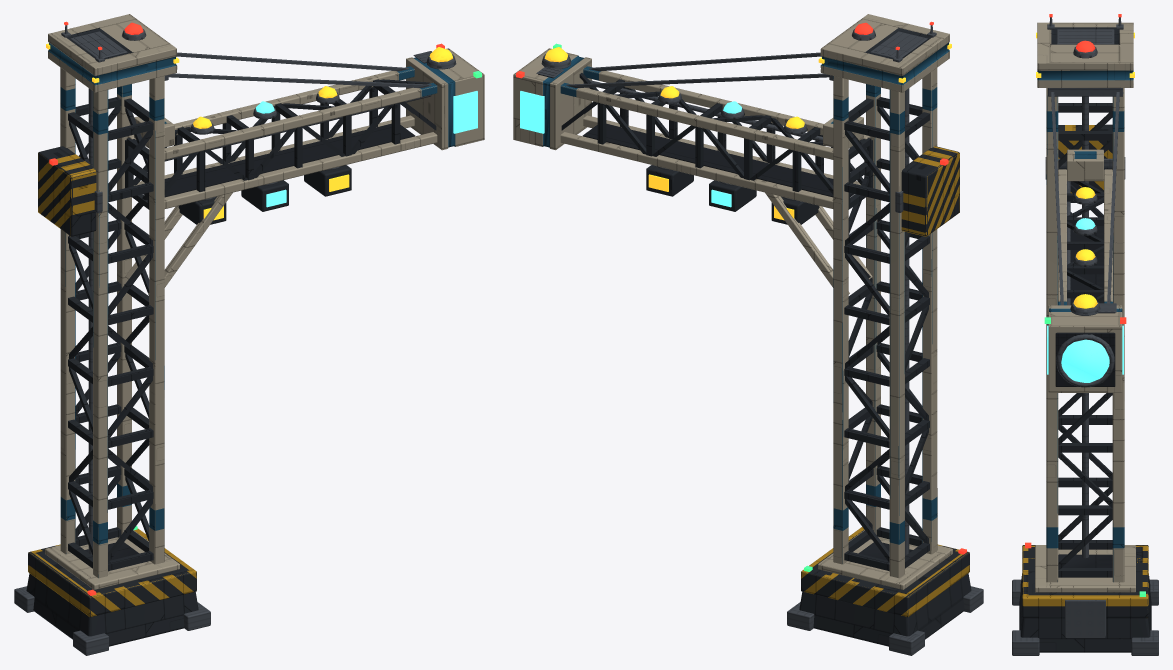
Rendered from place_lane_beacon.glb.
3 renders of one model, left to right at view 1: azimuth 30°, elevation 25°; view 2: azimuth 150°, elevation 25°; view 3: azimuth 270°, elevation 25°, orthographic.
Visible parts, largest first — view 1: LOD0_Hull, LOD0_Armor, LOD1_Armor, LOD0_Mechanical, LOD0_Warning, LOD0_Livery, LOD0_MechanicalDark, LOD1_Livery, LOD2_Hull, LOD1_Mechanical, LOD0_Lights_Cyan, LOD0_Beacon_Amber (+1 smaller); view 2: LOD0_Hull, LOD0_Armor, LOD1_Armor, LOD0_Mechanical, LOD0_Warning, LOD0_Livery, LOD1_Livery, LOD0_MechanicalDark, LOD1_MechanicalDark, LOD0_Lights_Cyan, LOD0_Beacon_Amber, LOD1_Lights_Cyan (+2 smaller); view 3: LOD0_Hull, LOD0_Armor, LOD0_Mechanical, LOD1_Armor, LOD0_Warning, LOD0_MechanicalDark, LOD2_Lights_Cyan, LOD0_Livery, LOD2_Mechanical, LOD1_Livery, LOD1_Mechanical, LOD2_Hull (+7 smaller).
Part boxes in pixels (x1,y1,x2,y2): LOD0_Hull: (45,14,484,589); LOD0_Armor: (26,27,436,646); LOD1_Armor: (26,28,428,636); LOD0_Mechanical: (14,25,456,655); LOD0_Warning: (28,154,196,616); LOD0_Livery: (48,43,455,544); LOD0_MechanicalDark: (143,57,426,197); LOD1_Livery: (48,42,454,512); LOD2_Hull: (45,54,436,584); LOD1_Mechanical: (27,29,454,655); LOD0_Lights_Cyan: (256,91,477,207); LOD0_Beacon_Amber: (46,43,452,220); LOD0_Hull: (513,14,952,589); LOD0_Armor: (561,27,971,646); LOD1_Armor: (564,28,971,636); LOD0_Mechanical: (536,25,983,655); LOD0_Warning: (801,146,969,616); LOD0_Livery: (543,43,949,544); LOD1_Livery: (543,43,949,541); LOD0_MechanicalDark: (538,72,854,197); LOD1_MechanicalDark: (583,124,874,547); LOD0_Lights_Cyan: (520,91,741,207); LOD0_Beacon_Amber: (545,43,951,220); LOD1_Lights_Cyan: (520,91,740,206); LOD0_Hull: (1035,22,1135,592); LOD0_Armor: (1019,29,1151,652); LOD0_Mechanical: (1012,17,1158,655); LOD1_Armor: (1021,27,1149,637); LOD0_Warning: (1022,125,1148,606); LOD0_MechanicalDark: (1055,226,1115,386); LOD2_Lights_Cyan: (1061,218,1109,382); LOD0_Livery: (1037,71,1133,548); LOD2_Mechanical: (1012,47,1158,655); LOD1_Livery: (1037,70,1133,513); LOD1_Mechanical: (1012,48,1158,655); LOD2_Hull: (1035,23,1135,592).
Size of what is drawn, in the model's own units: 10.75 by 14.32 by 3.2.
10 materials, 6 textured.
